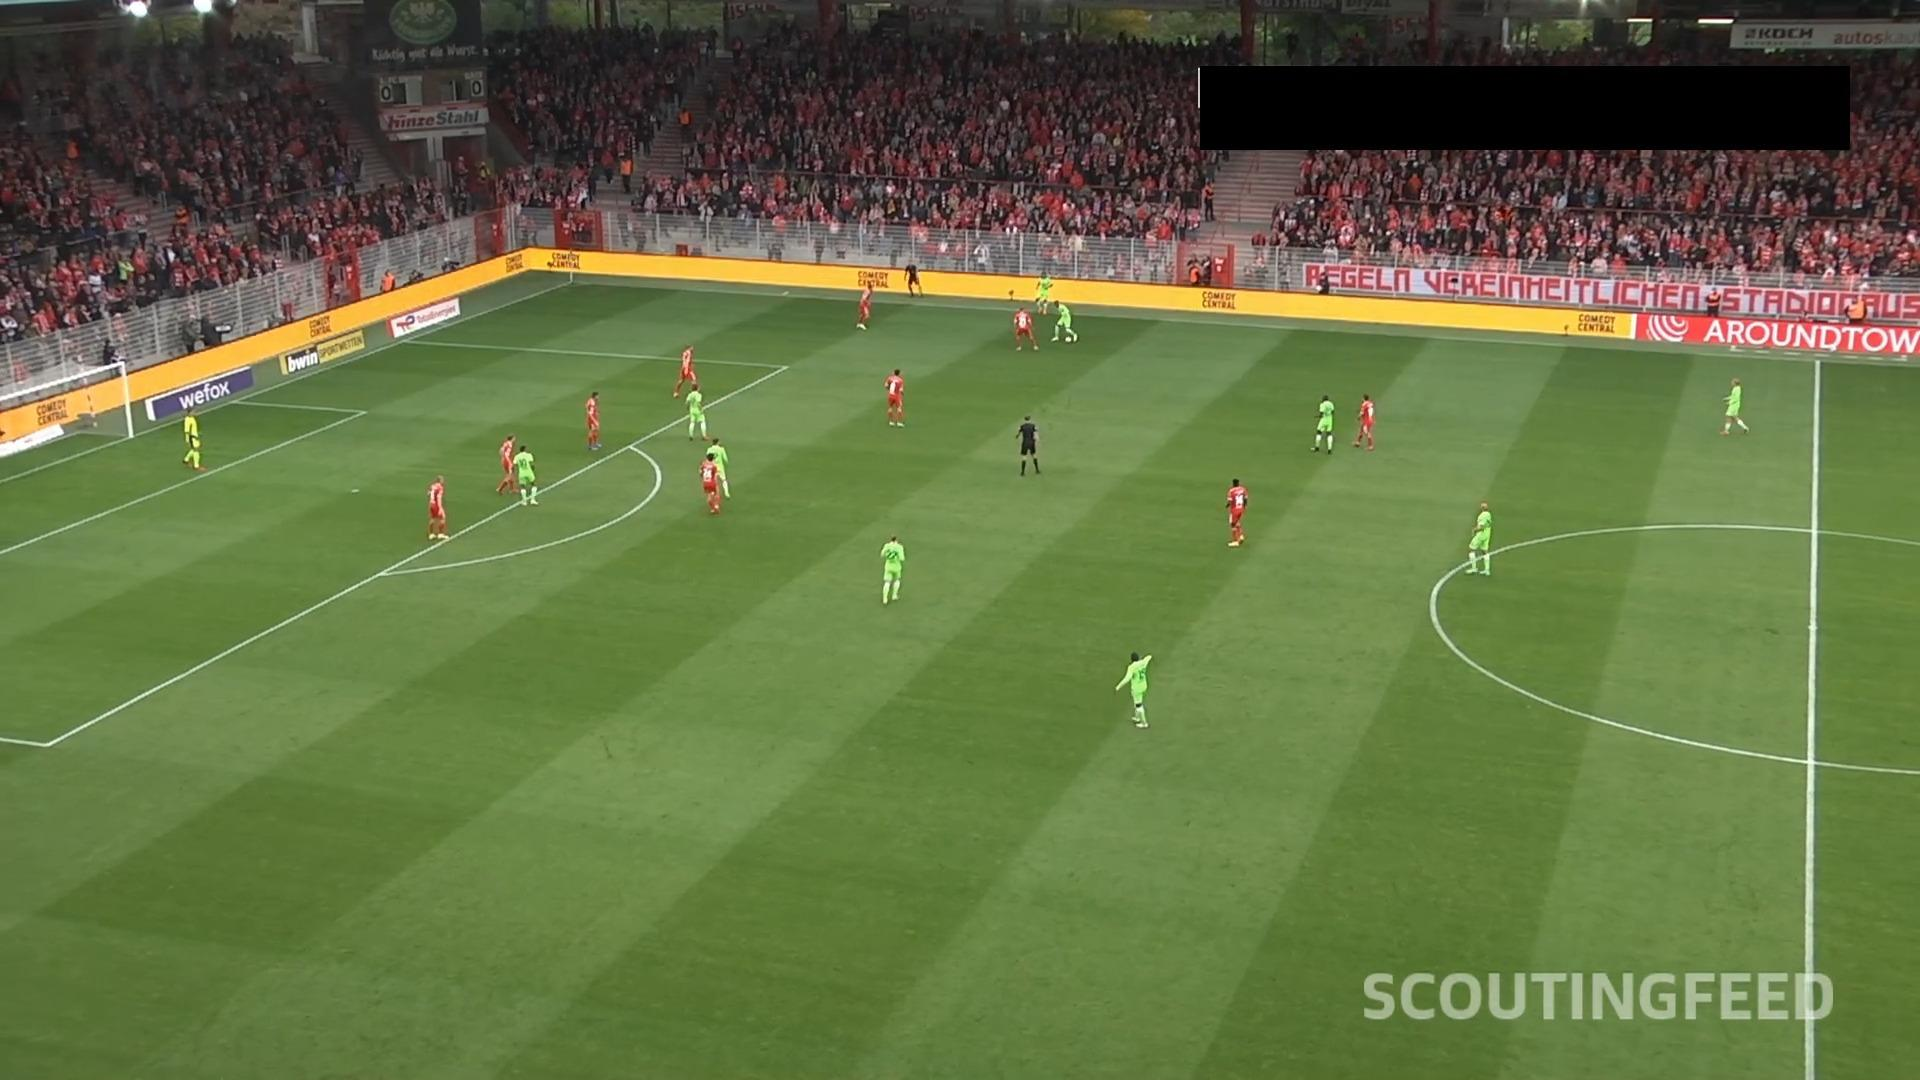ball: (1064, 336, 1072, 344)
